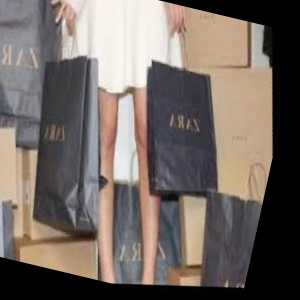zara: (85, 40, 289, 182), (30, 47, 120, 195), (43, 7, 59, 66)
